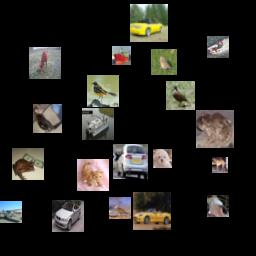airplane: (0, 201, 22, 223)
automobile: (133, 192, 171, 230), (130, 4, 168, 42), (113, 144, 148, 179), (52, 200, 84, 232)
bird: (87, 75, 119, 107), (166, 81, 195, 110), (151, 49, 177, 75), (109, 197, 131, 219)
cat: (77, 159, 109, 191), (33, 104, 62, 133)
dog: (153, 149, 172, 168), (212, 157, 228, 173)
frog: (196, 110, 234, 148), (12, 148, 44, 180)
ship: (82, 108, 114, 140), (207, 36, 229, 58), (112, 46, 131, 65)
